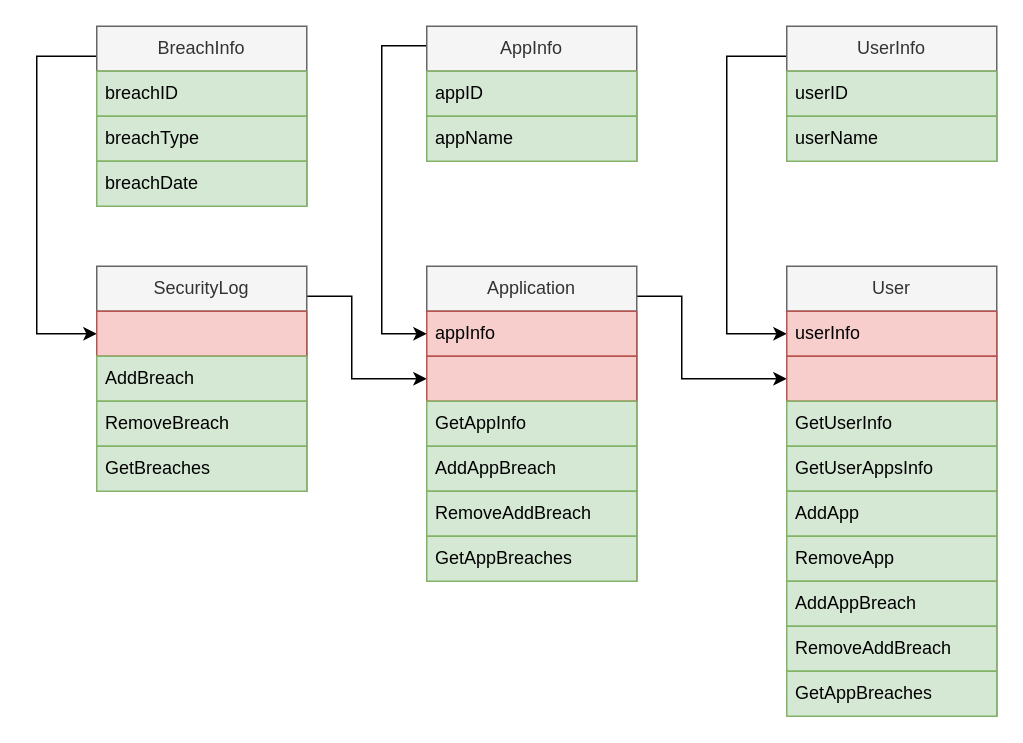
Some shapes in this 1023 by 743 pixel diagram are drawn without their labels. The centre of each missing label's shape, as x and y in pixels:
"appLog" goes at pixel 531 378.
"breaches" goes at pixel 201 333.
"userApps" goes at pixel 891 378.
